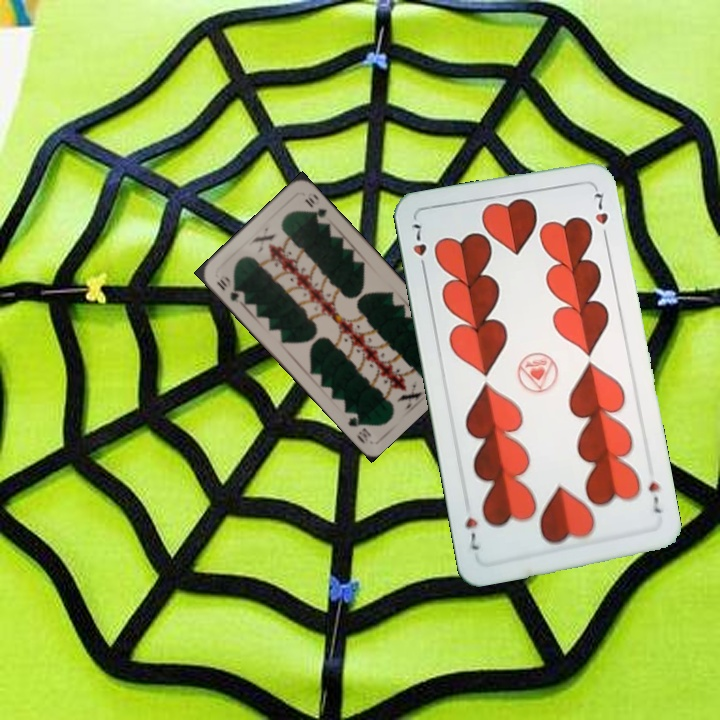G10: (212, 273, 243, 306)
H7: (407, 219, 429, 275), (644, 477, 664, 516)
